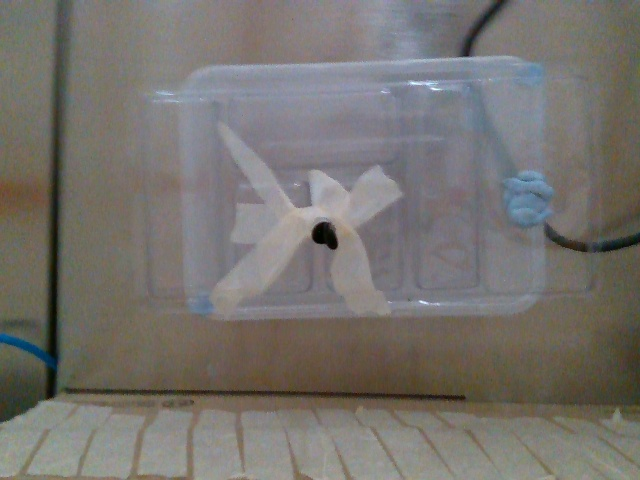test_strip: (313, 222, 334, 252)
